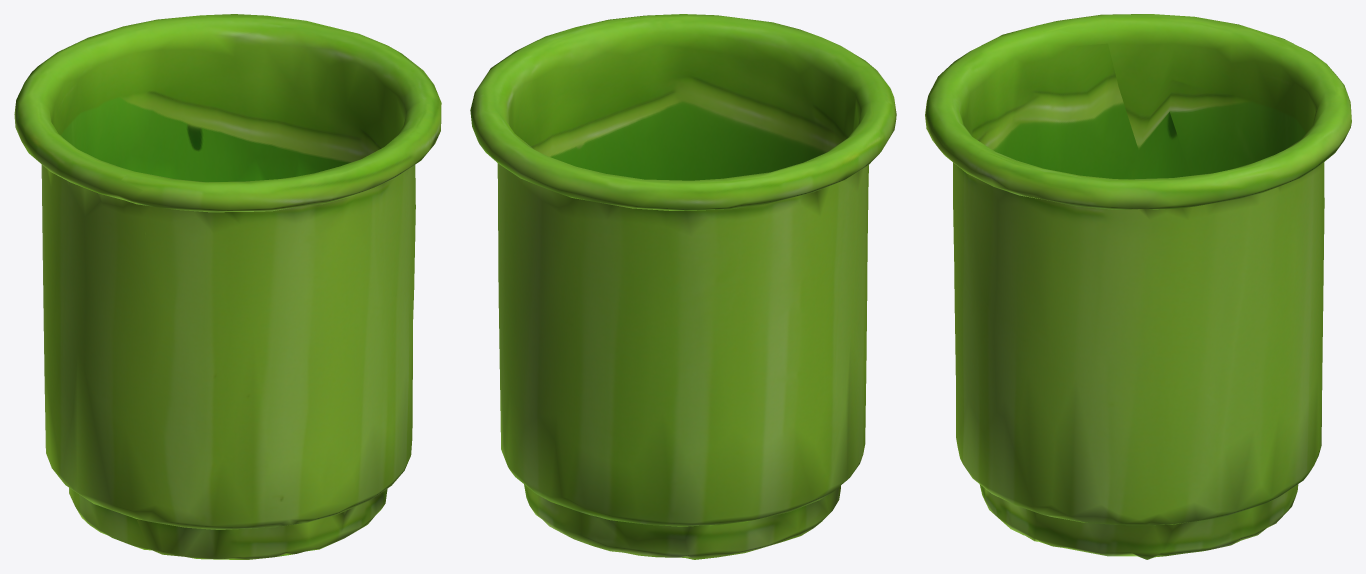
The model's file is ground_truth.glb.
3 renders of one model, left to right at view 1: azimuth 30°, elevation 25°; view 2: azimuth 150°, elevation 25°; view 3: azimuth 270°, elevation 25°, orthographic.
Parts seen in each view (by area): view 1: textured.070; view 2: textured.070; view 3: textured.070.
Boxes of the visible parts, box(x1,y1,x2,y2) form: textured.070: box(14, 14, 441, 559); textured.070: box(470, 14, 896, 559); textured.070: box(925, 14, 1351, 559).
Bounding box in the file's own units: 0.065 × 0.0665 × 0.0651.
Materials: 1 (1 with a texture image).
